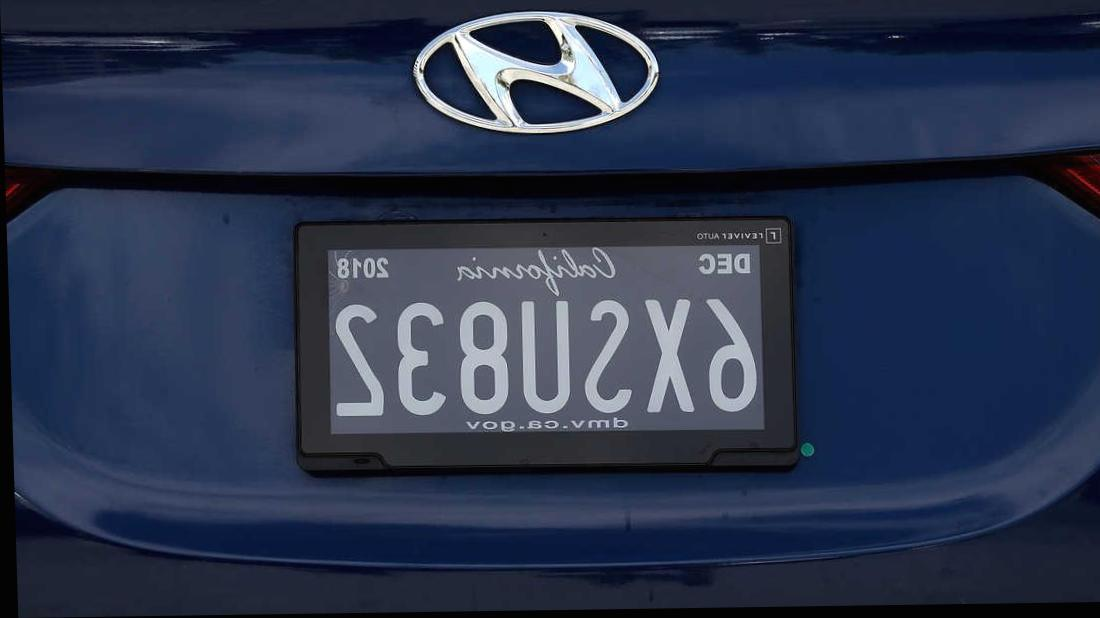License_Plate: (324, 242, 765, 443)
